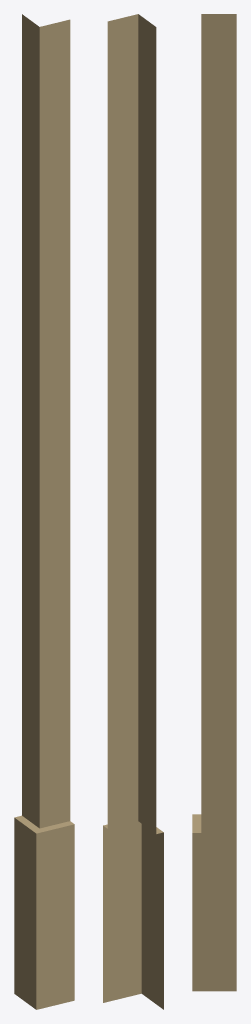
File: Corner_01_001.fbx
3 renders of one model, left to right at view 1: azimuth 30°, elevation 25°; view 2: azimuth 210°, elevation 25°; view 3: azimuth 270°, elevation 25°, orthographic.
Visible parts, largest first — view 1: Object004; view 2: Object004; view 3: Object004.
Boxes of the visible parts, <box> form: Object004: <box>14,14,74,1009</box>; Object004: <box>103,14,163,1009</box>; Object004: <box>192,14,236,991</box>.
Size of the model in its own units: 25 by 610 by 25.
